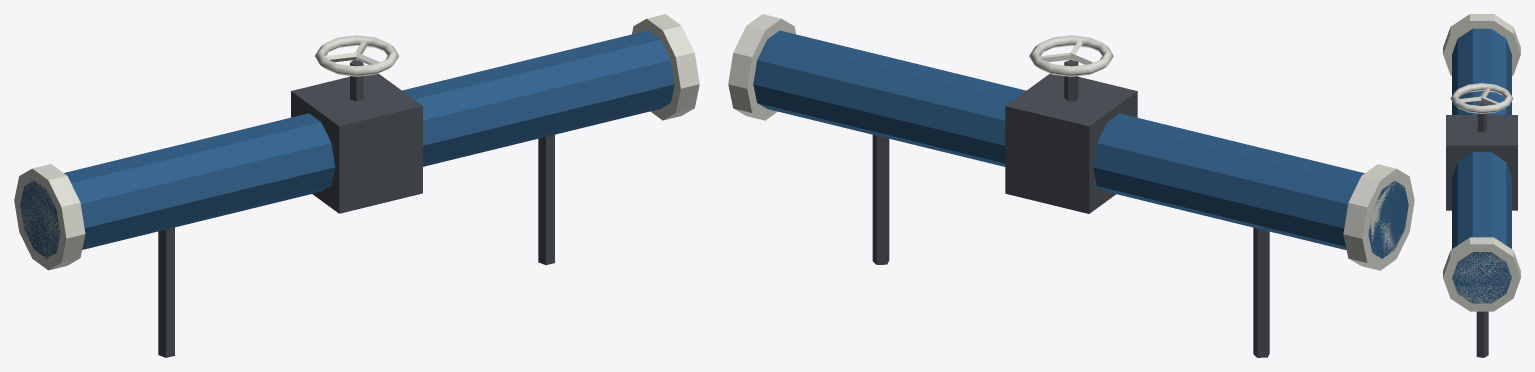
The model's file is PipeL_Valve@Turn.fbx.
The picture shows the model from 3 angles, left to right: view 1: azimuth 30°, elevation 25°; view 2: azimuth 150°, elevation 25°; view 3: azimuth 270°, elevation 25°; orthographic projection. The views are drawn at different scales.
Parts seen in each view (by area): view 1: PipeL_Valve_Body, PipeL_Valve_Wheel; view 2: PipeL_Valve_Body, PipeL_Valve_Wheel; view 3: PipeL_Valve_Body, PipeL_Valve_Wheel.
Boxes of the visible parts, <box> form: PipeL_Valve_Body: <box>14,14,699,357</box>; PipeL_Valve_Wheel: <box>315,35,398,76</box>; PipeL_Valve_Body: <box>728,14,1414,357</box>; PipeL_Valve_Wheel: <box>1029,35,1113,76</box>; PipeL_Valve_Body: <box>1443,14,1520,357</box>; PipeL_Valve_Wheel: <box>1450,83,1513,113</box>.
Size of the model in its own units: 1 by 0.388 by 0.143.
